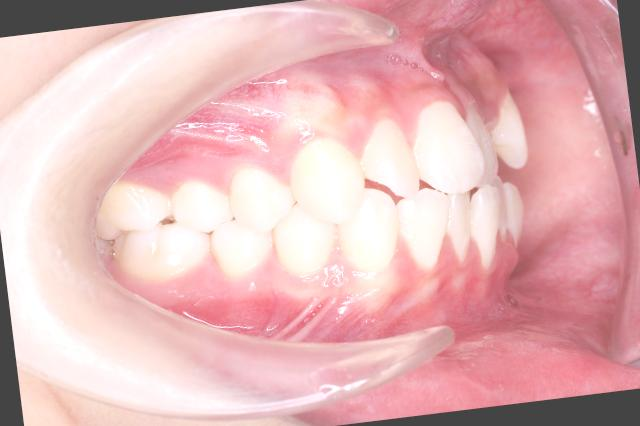canine class II 1/4: (258, 121, 406, 294)
molar class III 1/4: (82, 163, 214, 295)
